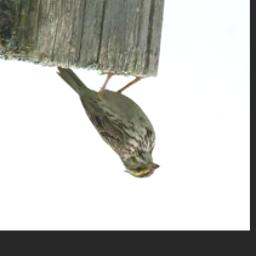Sparrow: (56, 64, 161, 180)
